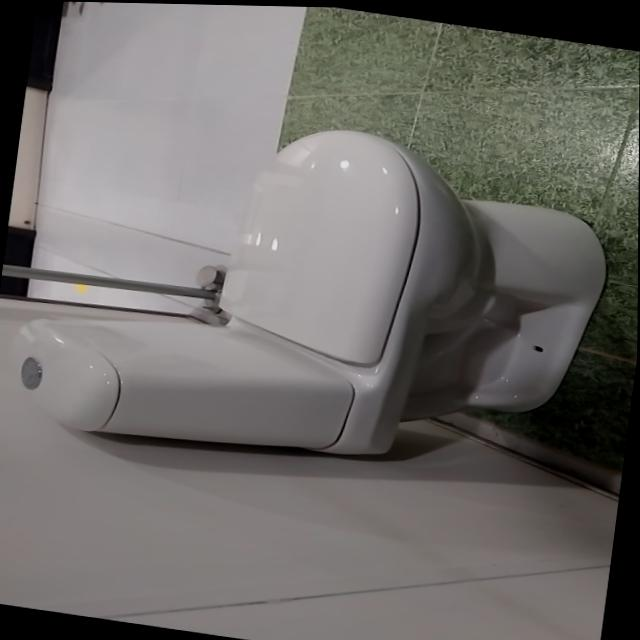toilet: (8, 85, 623, 502)
